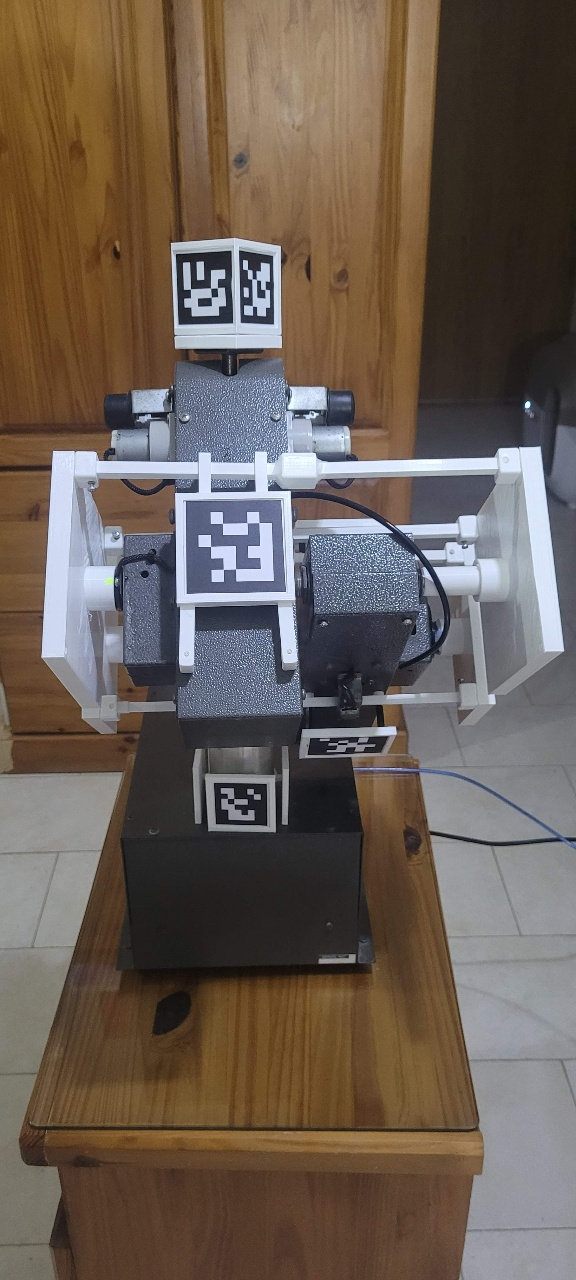Robot: (14, 194, 478, 955)
